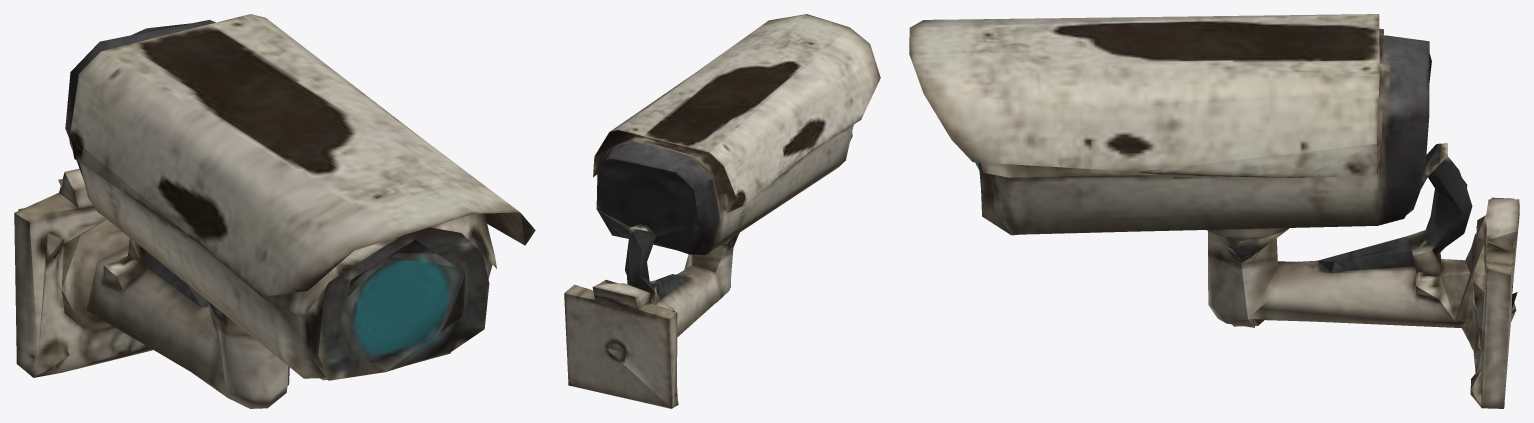
Rendered from p7-cctv-camera.glb.
3 views of the same model, side by side, from view 1: azimuth 30°, elevation 25°; view 2: azimuth 150°, elevation 25°; view 3: azimuth 270°, elevation 25° (orthographic). The views are drawn at different scales.
Parts seen in each view (by area): view 1: p7-cctv-camera; view 2: p7-cctv-camera; view 3: p7-cctv-camera.
Boxes of the visible parts, x1=… form: p7-cctv-camera: x1=14, y1=14, x2=535, y2=408; p7-cctv-camera: x1=564, y1=14, x2=880, y2=408; p7-cctv-camera: x1=909, y1=14, x2=1519, y2=408.
Bounding box in the file's own units: 0.2 × 0.3 × 0.5.
1 material, 1 textured.
